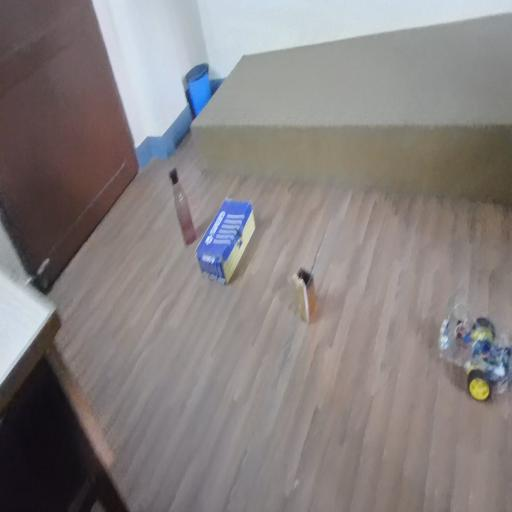Bottle: (167, 162, 208, 247)
car: (434, 294, 512, 398)
